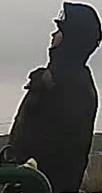helmet: (52, 7, 71, 28)
vest: (11, 56, 98, 169)
